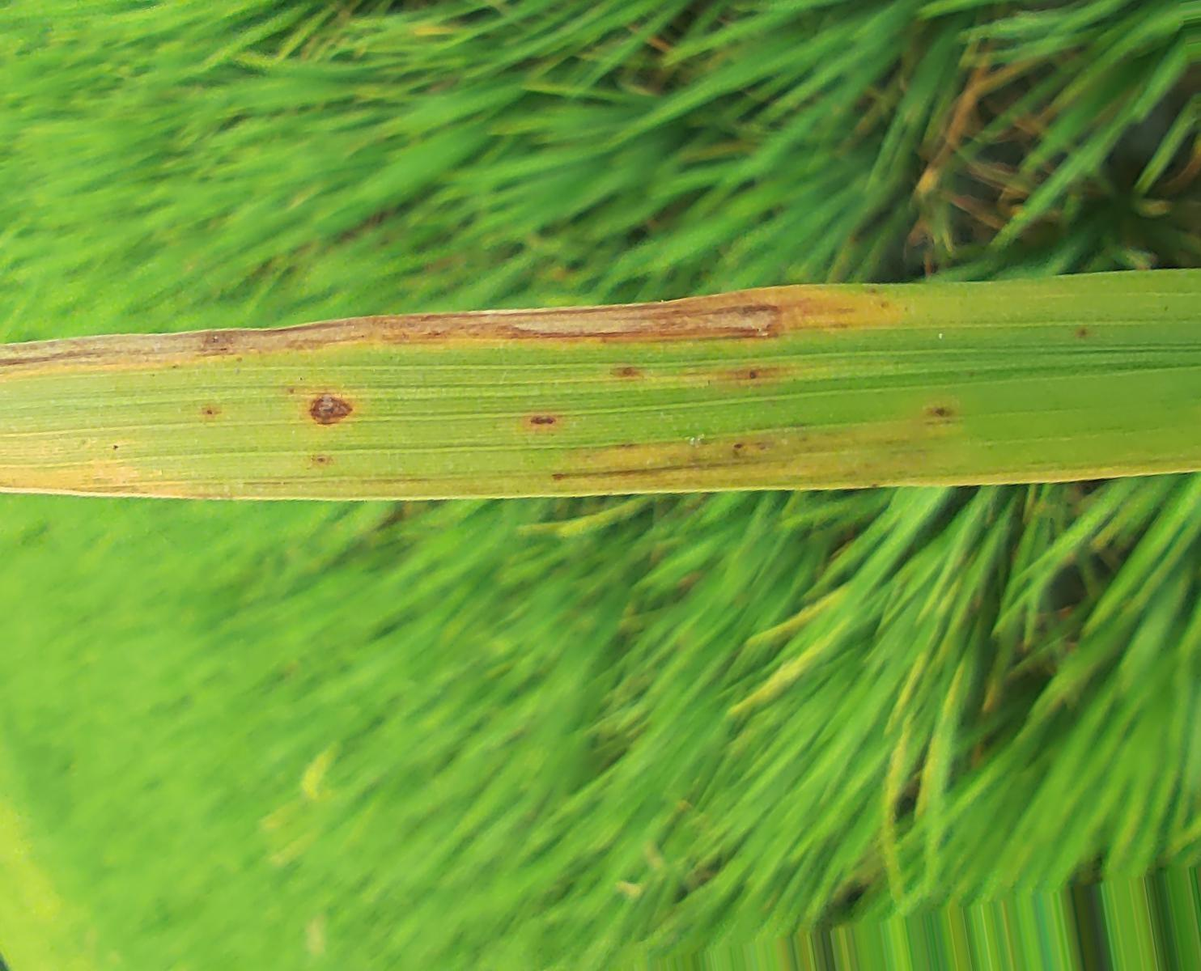LEAF: (0, 269, 1200, 499)
LEAF BLAST: (0, 294, 795, 374), (307, 389, 356, 430)
